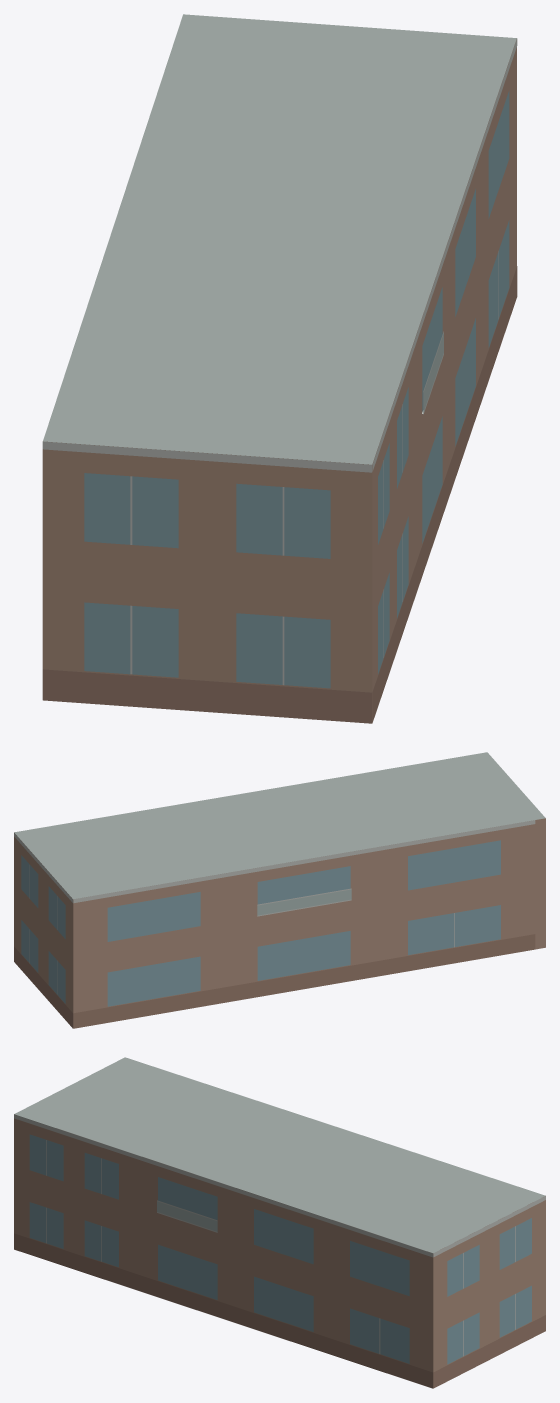
Rendered from survey-upis-33018938.glb.
3 views of the same model, one above another, from view 1: azimuth 30°, elevation 25°; view 2: azimuth 150°, elevation 25°; view 3: azimuth 270°, elevation 25° (orthographic). The views are drawn at different scales.
Parts seen in each view (by area): view 1: survey-upis-33018938.tmp; view 2: survey-upis-33018938.tmp; view 3: survey-upis-33018938.tmp.
Part boxes in pixels (<box>): survey-upis-33018938.tmp: <box>42,14,517,723</box>; survey-upis-33018938.tmp: <box>14,752,545,1028</box>; survey-upis-33018938.tmp: <box>14,1057,545,1388</box>.
Bounding box in the file's own units: 24.56 × 7.9 × 28.14.
